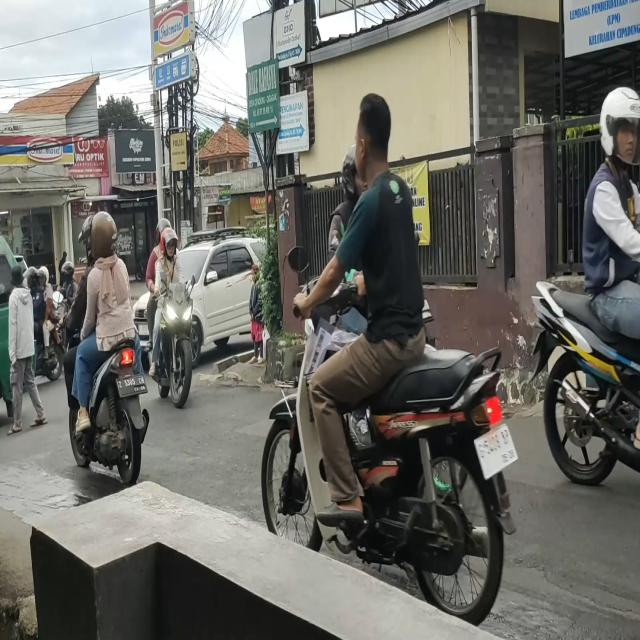helmet: (602, 86, 640, 159), (85, 219, 118, 260), (162, 231, 176, 260), (154, 221, 173, 241)
no-helmet: (354, 99, 393, 179)
